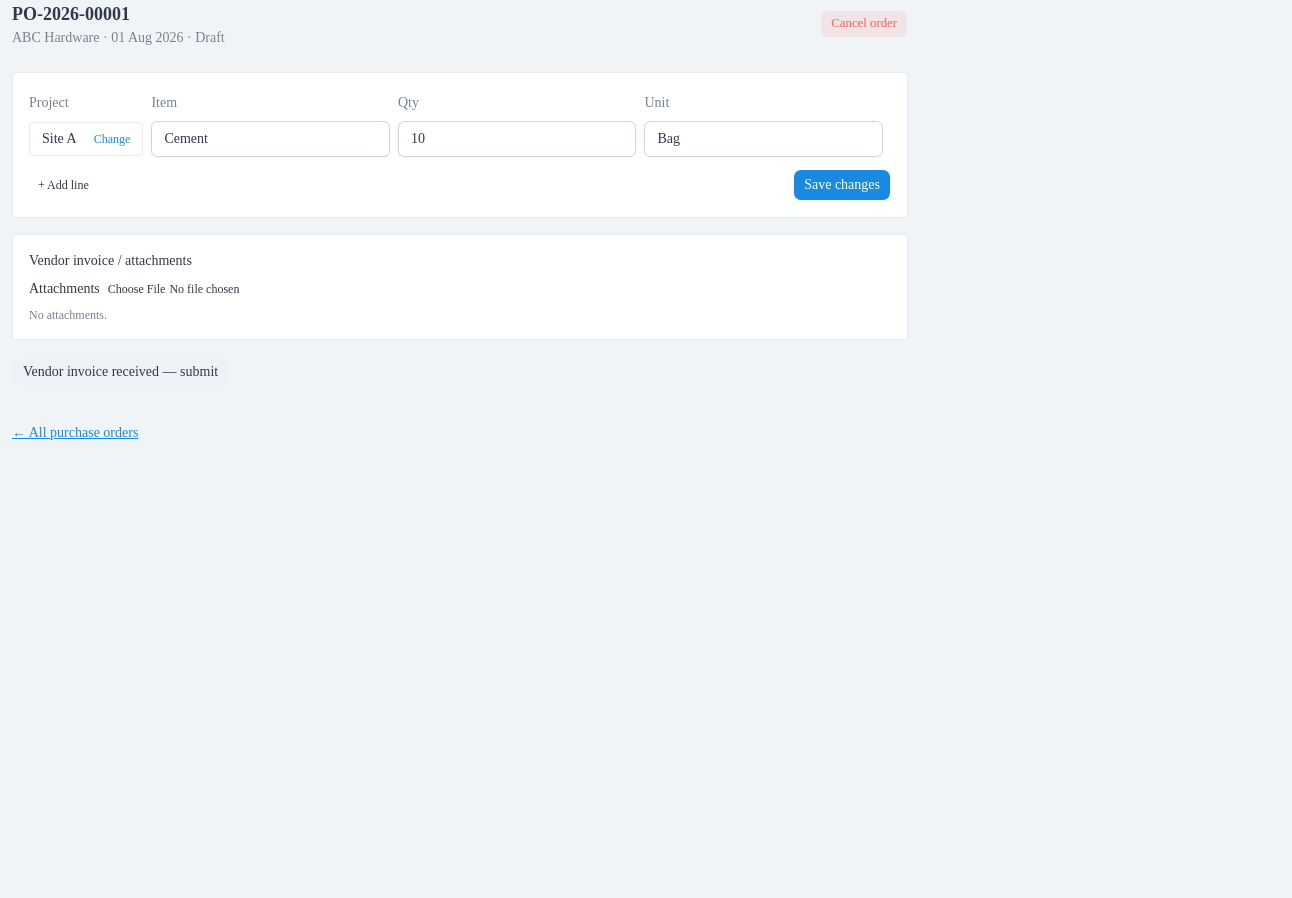
Test: PurchaseOrderDetailPage › Submit_RemovingAnOtherChargeTakesItBackOffTheTotal
The width and height of the screenshot is (1292, 898).
Click the button "Vendor invoice received — submit" at (121, 372), box [12, 356, 229, 388]
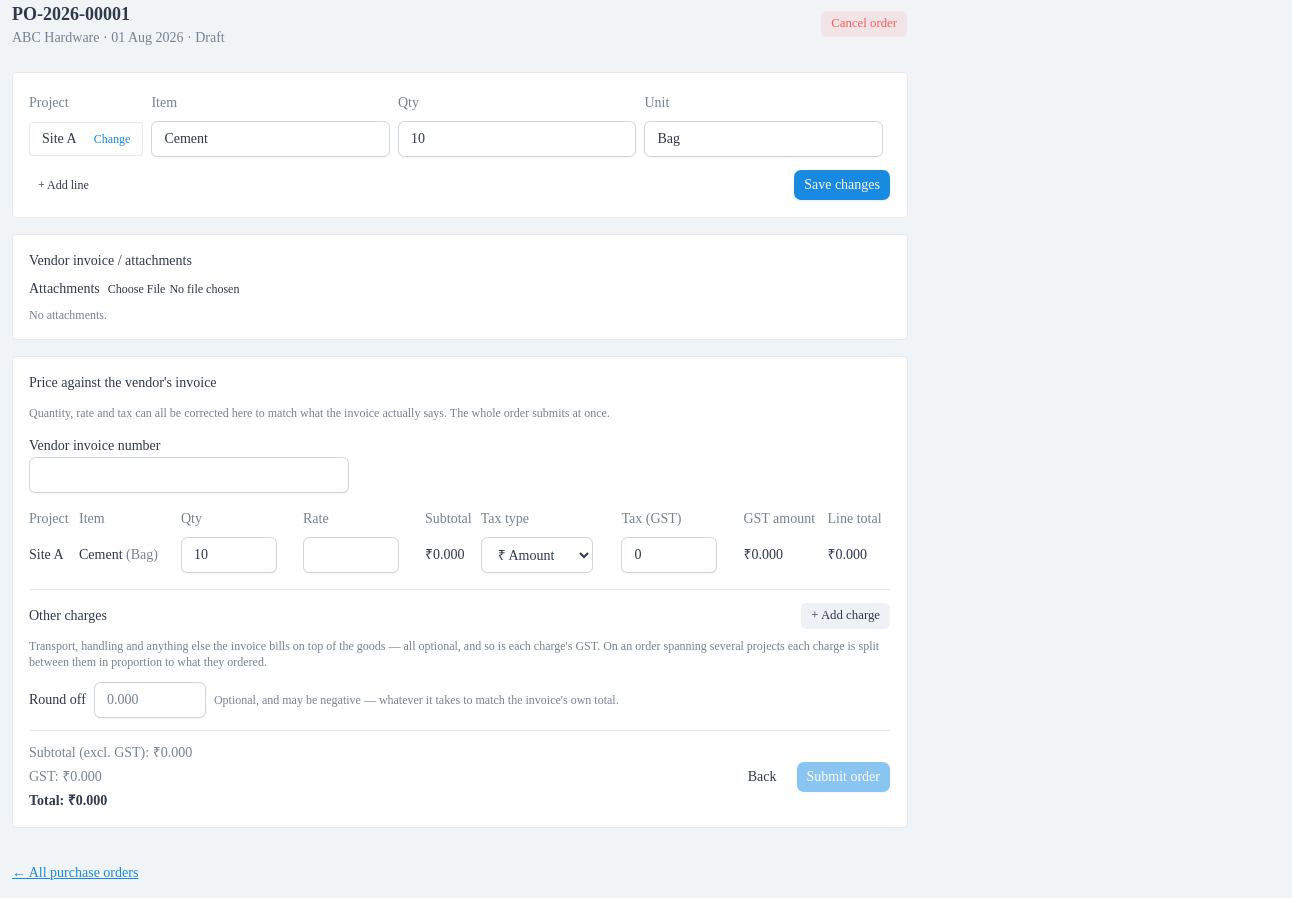
Type "400" into the field named "rate 1" at (351, 555), box [303, 537, 399, 573]
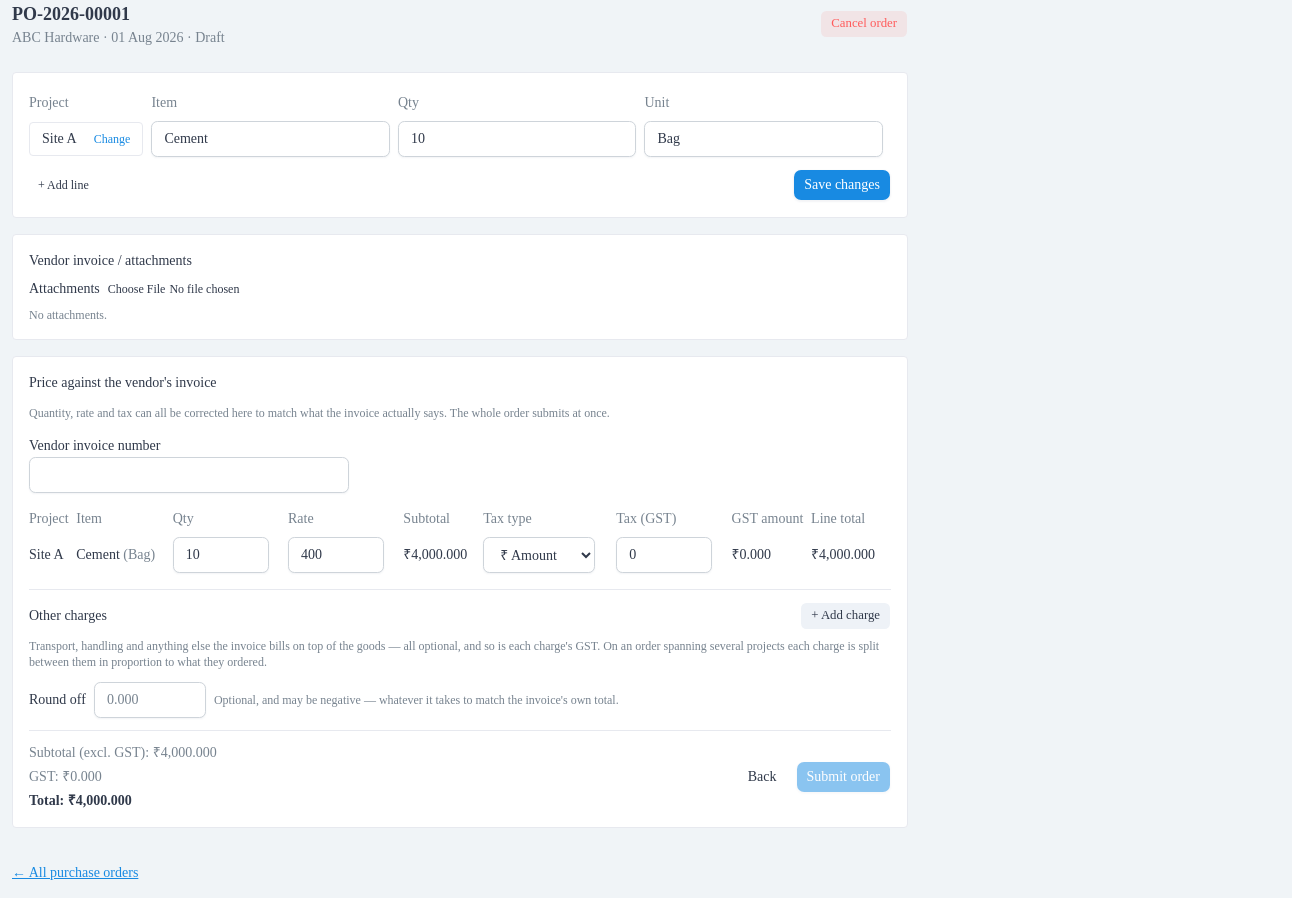
Click the button "+ Add charge" at (846, 616), box [800, 602, 891, 630]
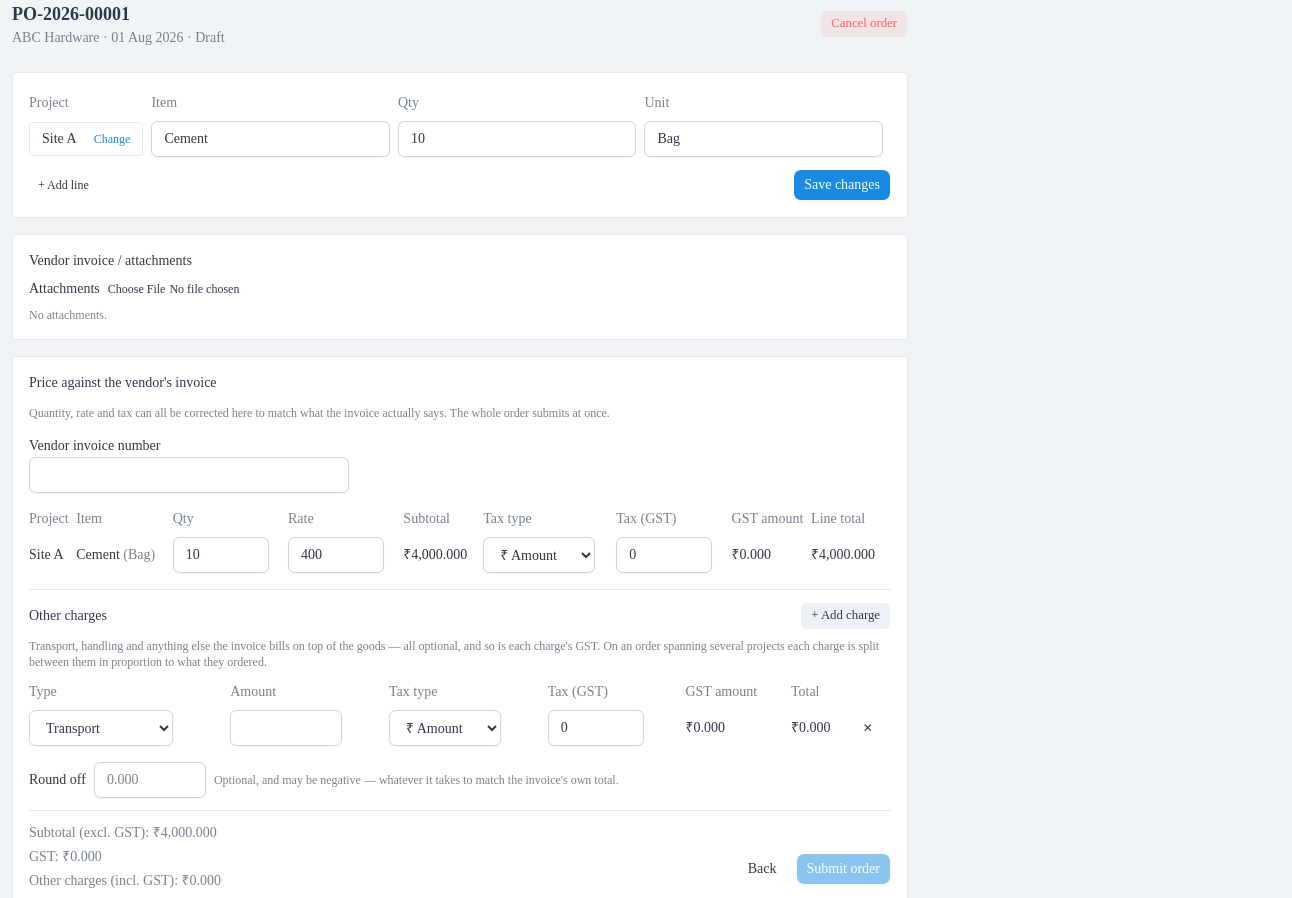
Type "500" into the field named "chargeAmount 1" at (286, 728), box [230, 710, 342, 746]
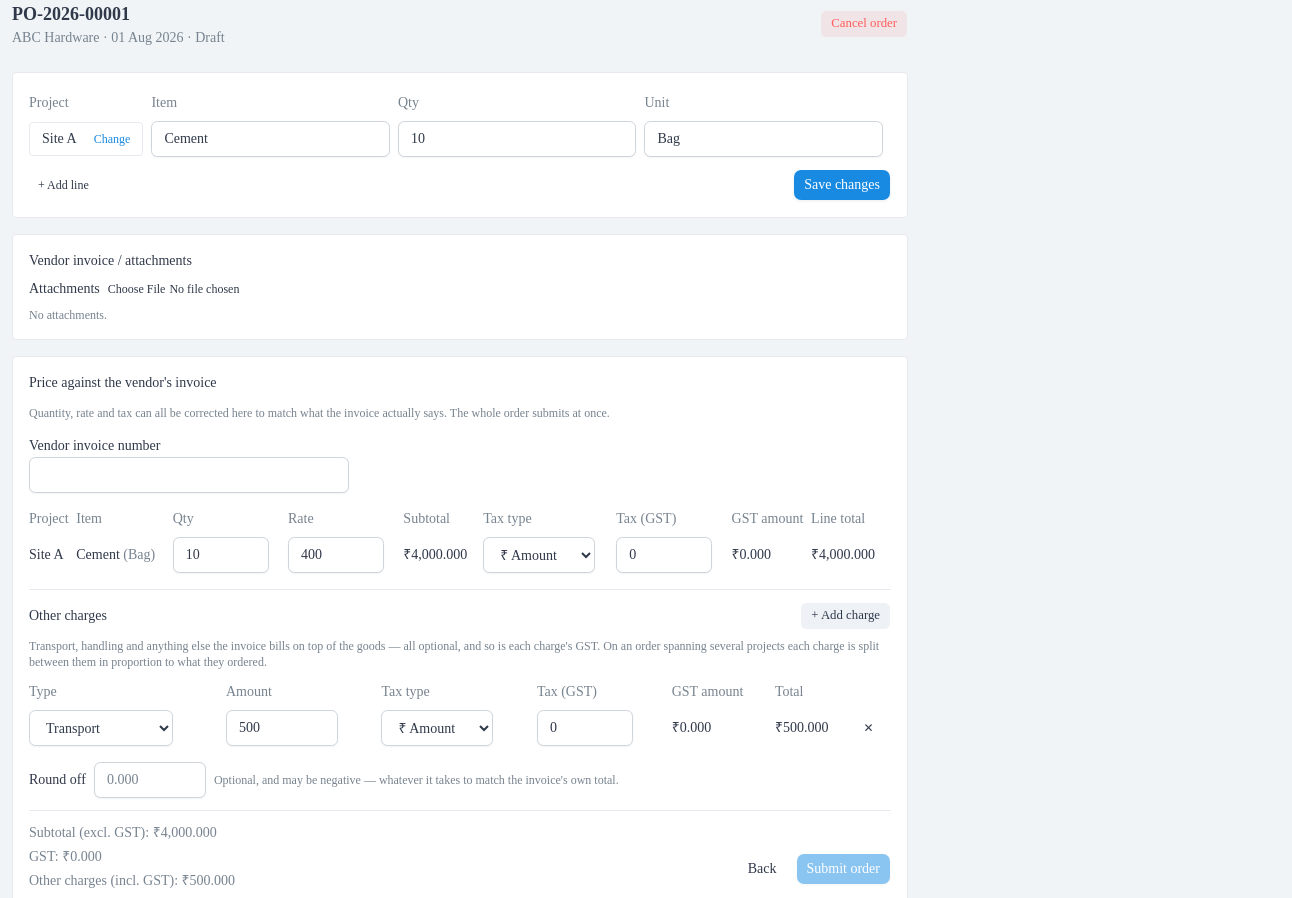
Click the button named "Remove charge 1" at (869, 728), box [855, 716, 883, 740]
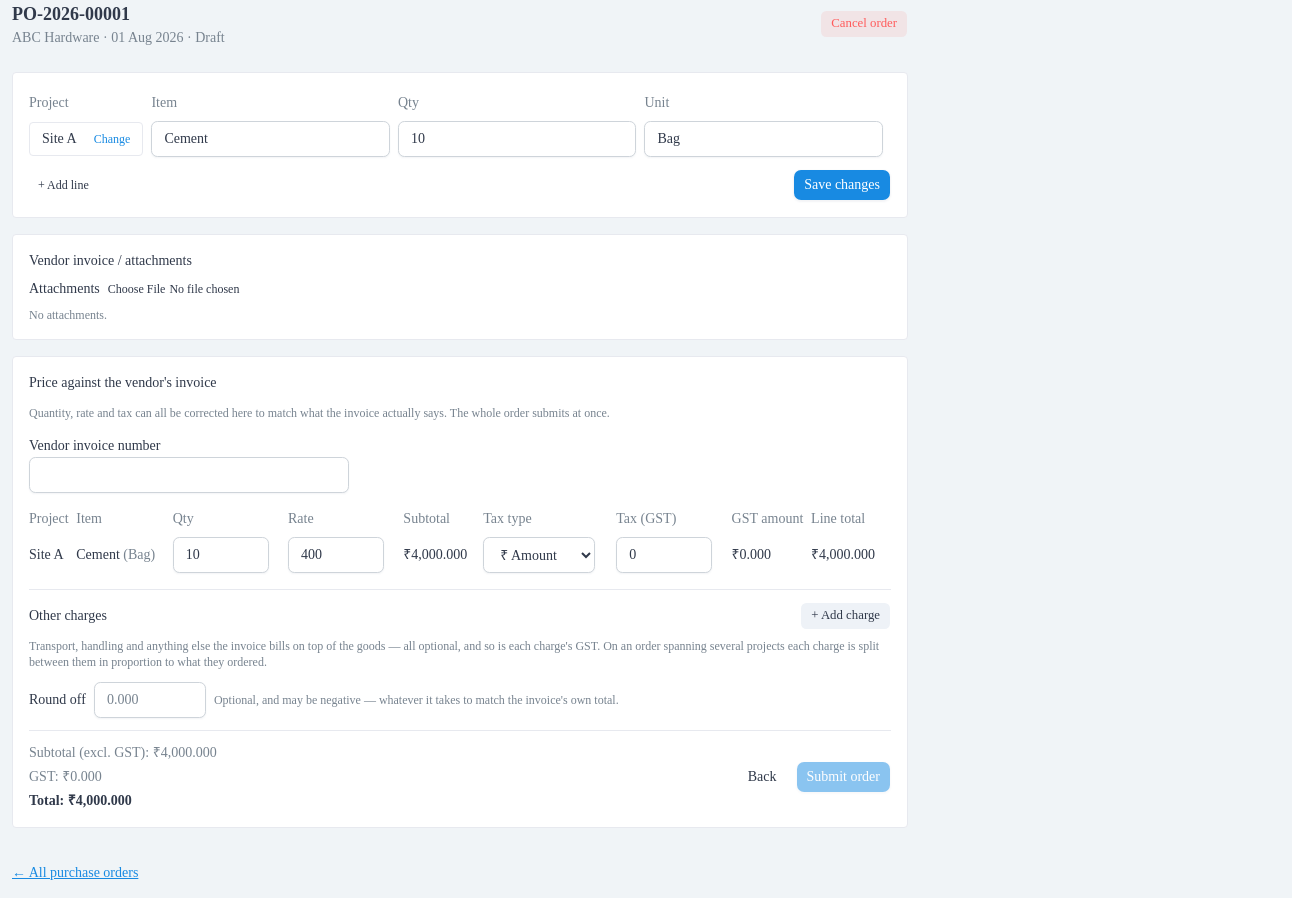
expect the text with test id "submit-total" shows "4,000": met, box [68, 793, 132, 808]
expect the text with test id "submit-charges-total" is gone: met
